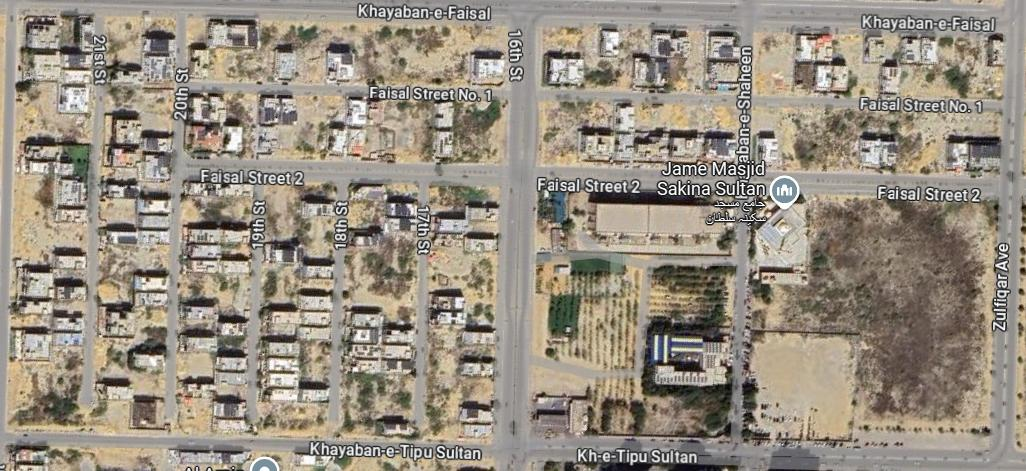Buildings: (748, 187, 993, 446), (533, 182, 734, 442), (7, 13, 94, 431), (93, 17, 178, 427), (186, 94, 503, 160), (187, 20, 507, 84), (257, 181, 334, 435), (341, 185, 414, 440), (425, 187, 496, 444), (178, 185, 251, 432), (749, 31, 1002, 100), (757, 106, 999, 173), (538, 104, 736, 169), (542, 28, 737, 93)
